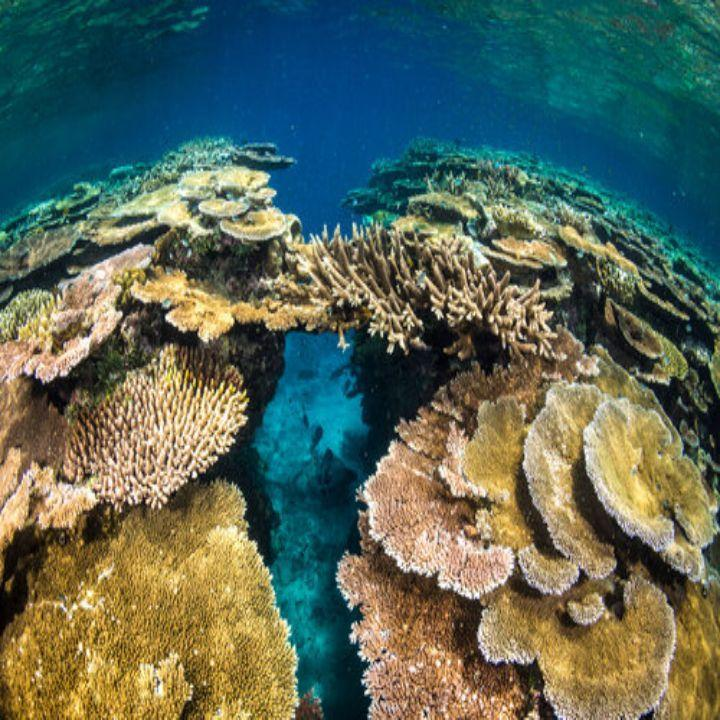Healthy Coral: (345, 135, 713, 719), (1, 194, 318, 719)
